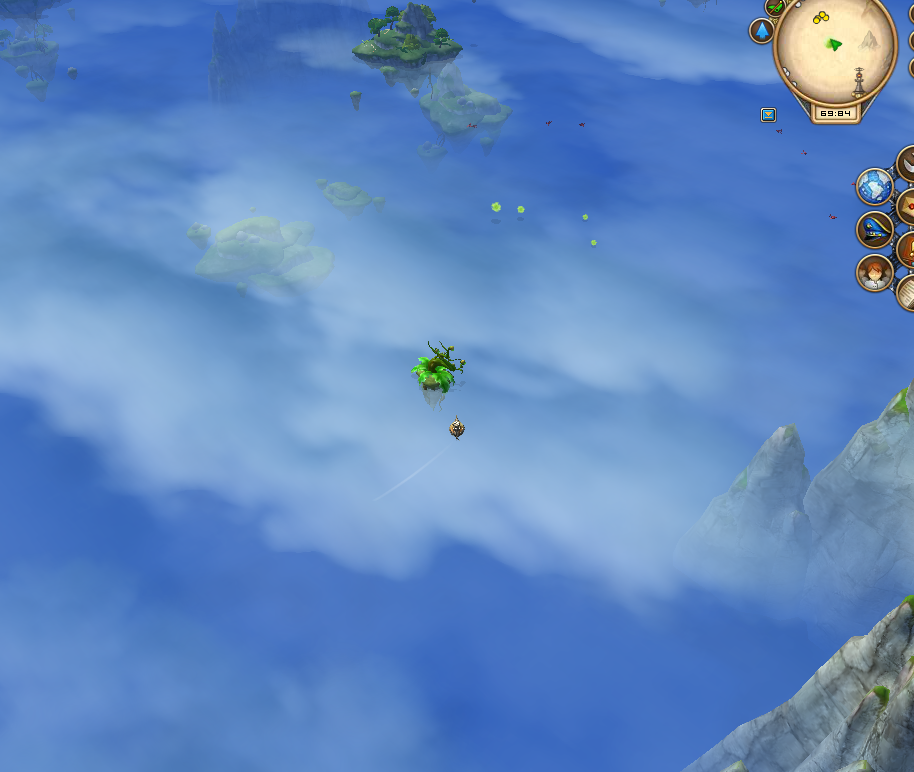dandelion-empty: (405, 335, 468, 405)
fluff: (487, 199, 503, 214), (514, 200, 526, 217), (581, 211, 590, 223), (588, 237, 598, 246)
